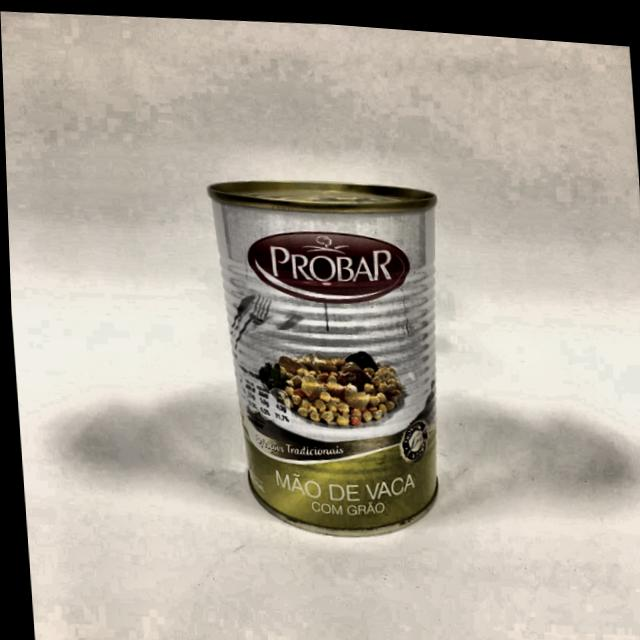Cans: (185, 147, 453, 555)
